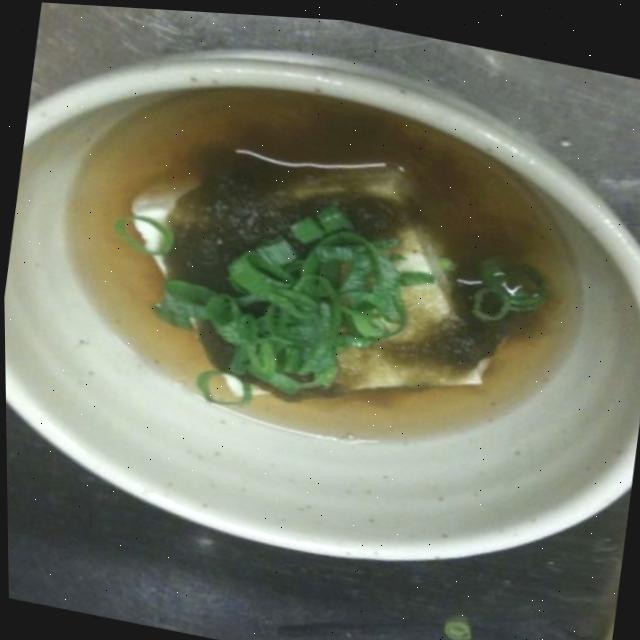豆腐料理: (0, 41, 640, 578)
